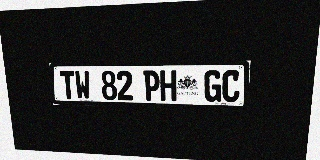2: (116, 70, 133, 100)
8: (101, 70, 117, 100)
C: (222, 70, 241, 102)
G: (204, 70, 222, 102)
H: (160, 70, 176, 101)
P: (143, 70, 160, 101)
T: (60, 71, 76, 99)
W: (74, 71, 91, 100)
